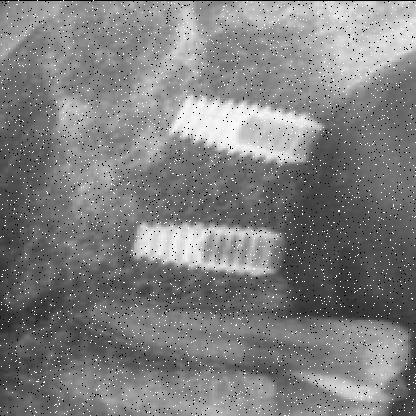Bicon: (168, 96, 336, 164), (126, 223, 292, 277)
